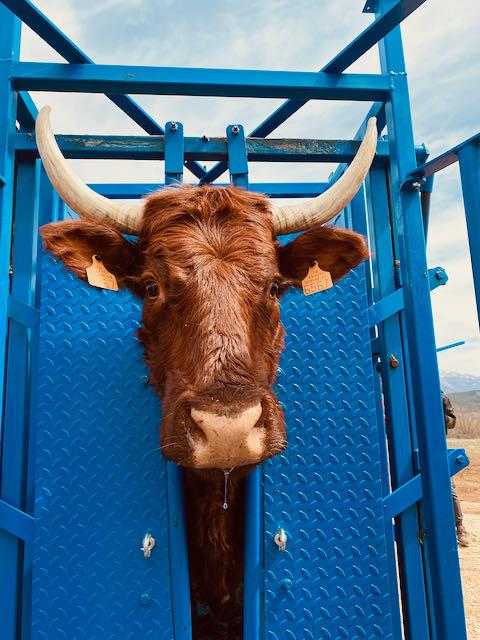muzzles: (155, 400, 289, 472)
